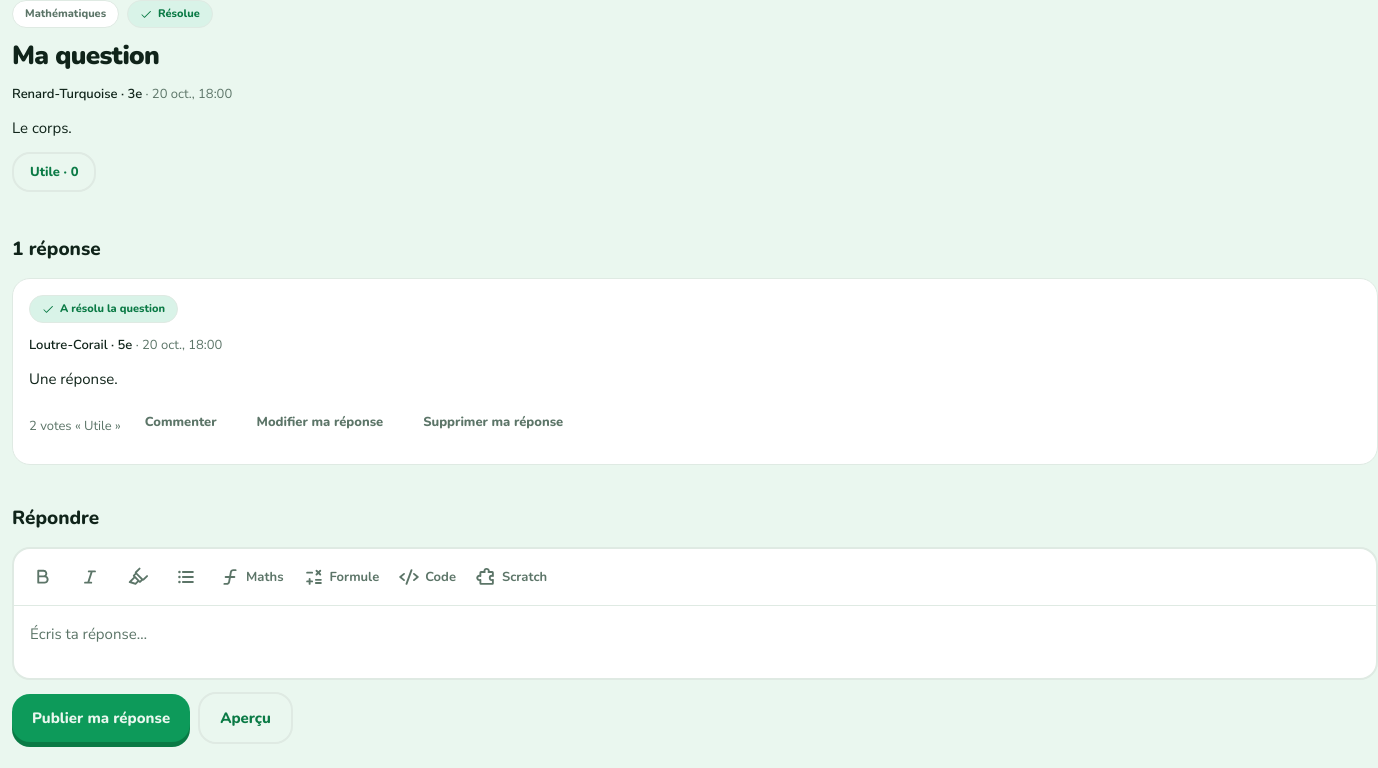
Test: FilQuestion › asks before deleting, warns when it reopens the question, and can be cancelled
Click the button "Supprimer ma réponse". click: click(493, 426)
box: x1=407 y1=404 x2=579 y2=448
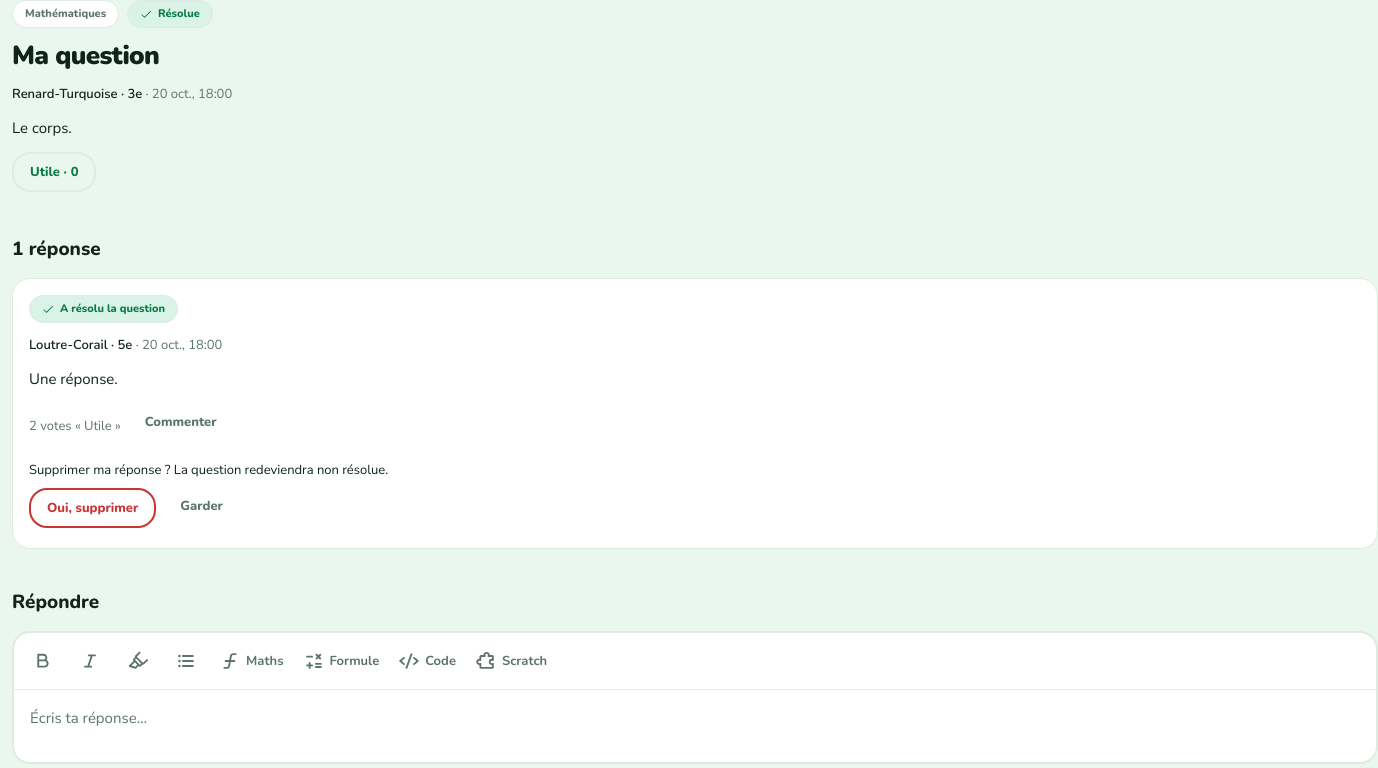
Expected: the text "Supprimer ma réponse ? La question redeviendra non résolue." is shown, x1=29 y1=461 x2=388 y2=479
Click the button "Garder". click: click(202, 510)
box: x1=164 y1=488 x2=239 y2=532
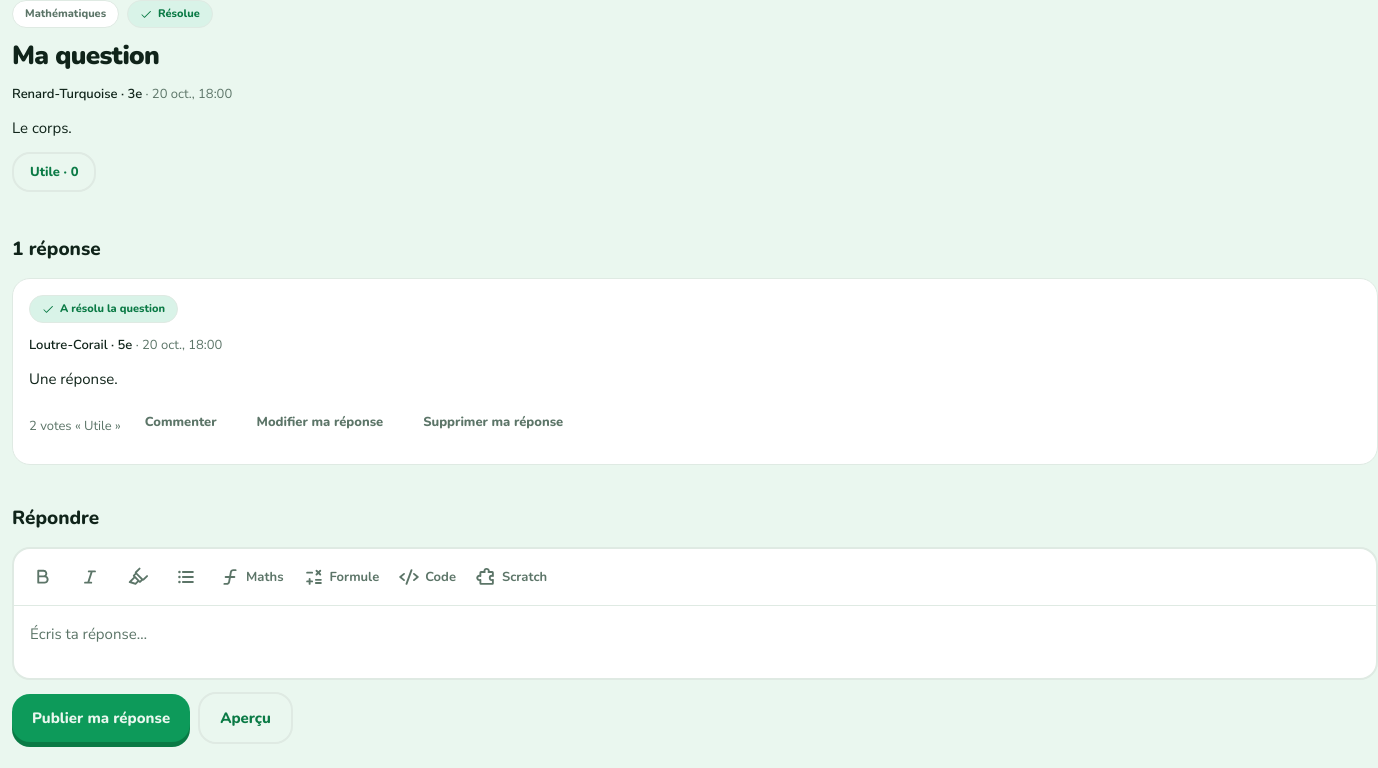
Expected: the text "La question redeviendra non résolue" is gone
